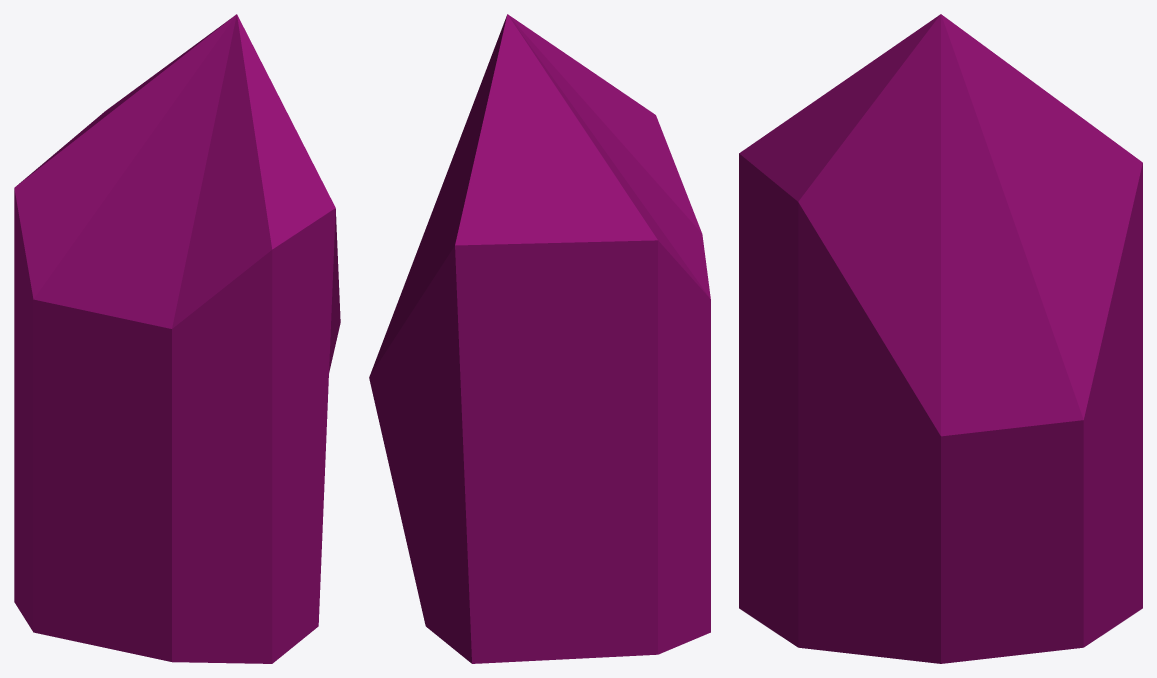
Rendered from GolemCrystal2.fbx.
The picture shows the model from 3 angles, left to right: view 1: azimuth 30°, elevation 25°; view 2: azimuth 150°, elevation 25°; view 3: azimuth 270°, elevation 25°; orthographic projection. The views are drawn at different scales.
Parts seen in each view (by area): view 1: GolemCrystal2; view 2: GolemCrystal2; view 3: GolemCrystal2.
Boxes of the visible parts, bbox=[...] form: GolemCrystal2: bbox=[14, 14, 340, 663]; GolemCrystal2: bbox=[369, 14, 710, 663]; GolemCrystal2: bbox=[739, 14, 1142, 663].
Size of the model in its own units: 87.66 by 155 by 90.88.
